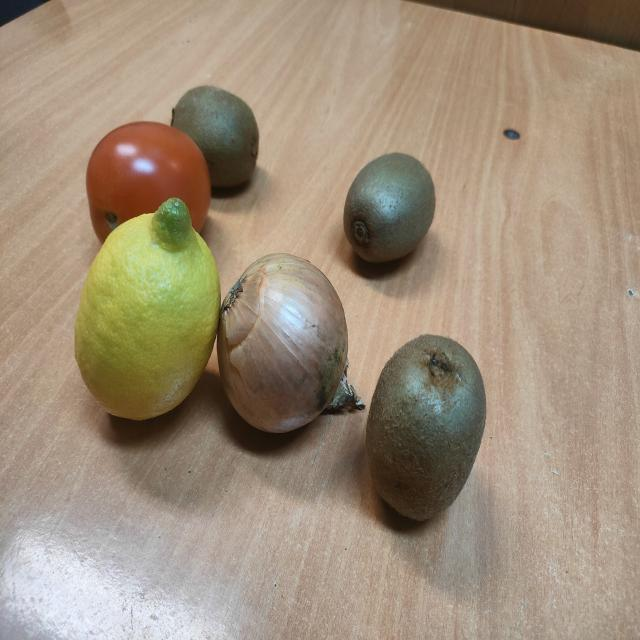kiwi: (366, 335, 486, 520), (344, 153, 435, 262), (171, 85, 259, 187)
lemon: (75, 198, 220, 420), (218, 253, 348, 432)
tomato: (86, 122, 211, 242)
